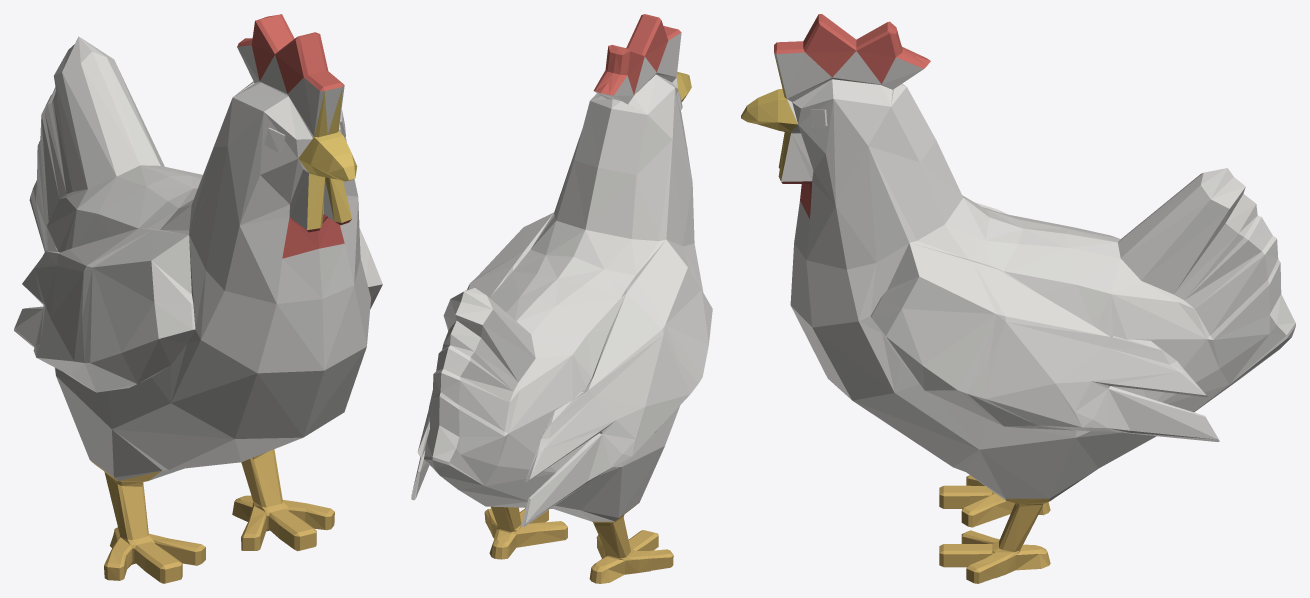
The model's file is pollo-cgtrader-blanco.glb.
3 views of the same model, side by side, from view 1: azimuth 30°, elevation 25°; view 2: azimuth 150°, elevation 25°; view 3: azimuth 270°, elevation 25° (orthographic). The views are drawn at different scales.
Visible parts, largest first — view 1: Pollo; view 2: Pollo; view 3: Pollo.
Part boxes in pixels (x1,y1,x2,y2): Pollo: (14,14,382,583); Pollo: (411,14,712,583); Pollo: (741,14,1295,583).
Size of the model in its own units: 0.5046 by 1 by 0.9689.
